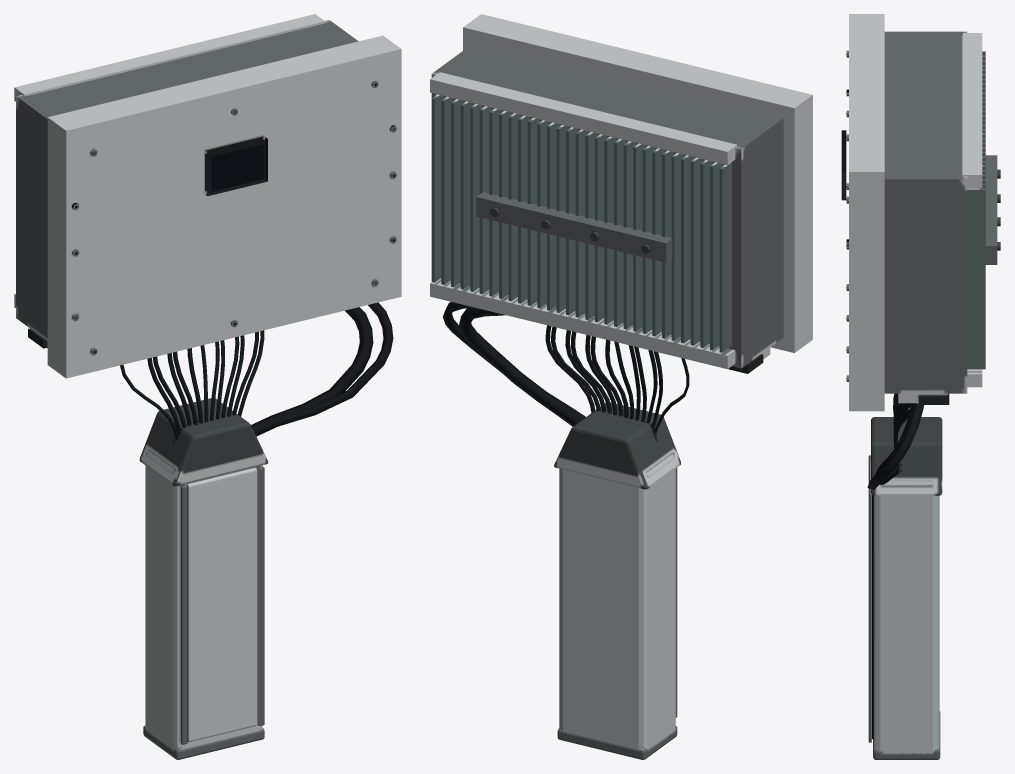
File: inverter_web.glb
3 views of the same model, side by side, from view 1: azimuth 30°, elevation 25°; view 2: azimuth 150°, elevation 25°; view 3: azimuth 270°, elevation 25° (orthographic). The views are drawn at different scales.
Visible parts, largest first — view 1: INVERTER_WEB_MESH, INVERTER_DISPLAY_SCREEN; view 2: INVERTER_WEB_MESH; view 3: INVERTER_WEB_MESH.
Boxes of the visible parts, x1=… form: INVERTER_WEB_MESH: x1=14, y1=14, x2=401, y2=759; INVERTER_DISPLAY_SCREEN: x1=211, y1=144, x2=263, y2=191; INVERTER_WEB_MESH: x1=430, y1=14, x2=812, y2=759; INVERTER_WEB_MESH: x1=841, y1=14, x2=1000, y2=759.
Bounding box in the file's own units: 0.7049 × 1.3 × 0.29.
Materials: 2 (1 with a texture image).
